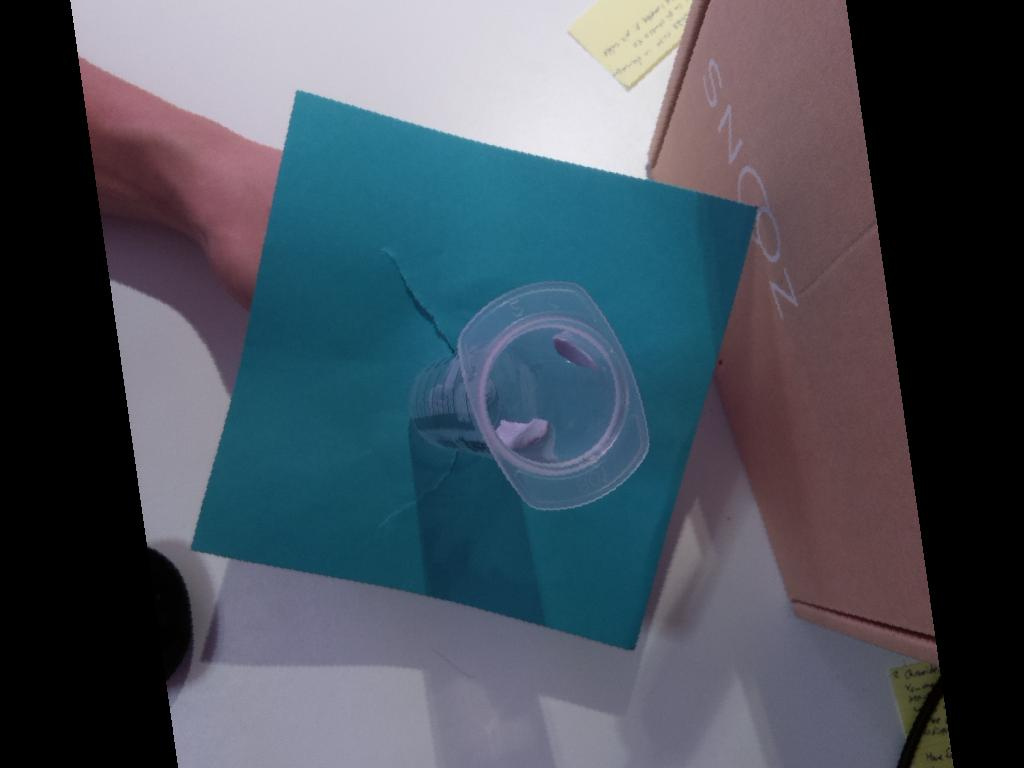dirty: (456, 280, 650, 509)
